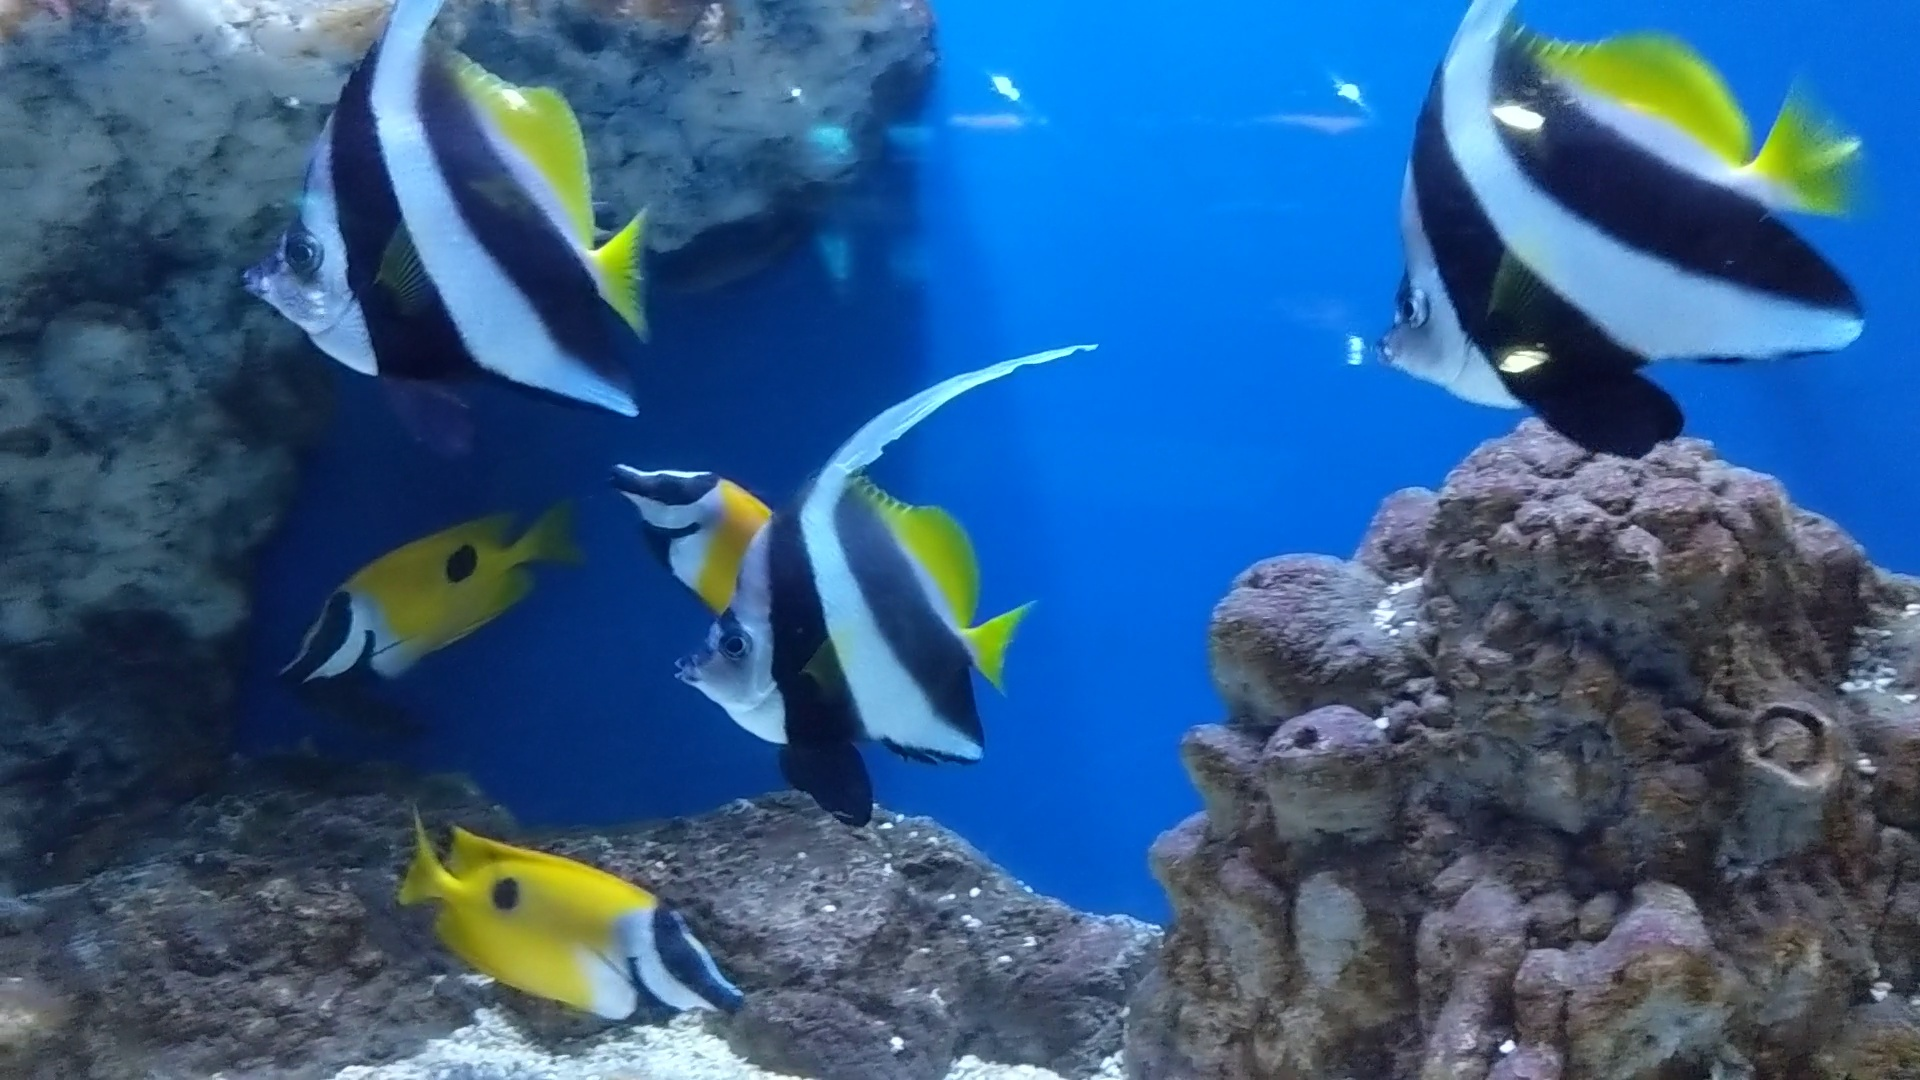moorfish: (1365, 22, 1876, 444), (665, 336, 1079, 820), (231, 22, 649, 429)
rabbitfish: (405, 785, 738, 1036), (243, 514, 537, 688), (603, 444, 754, 599)
